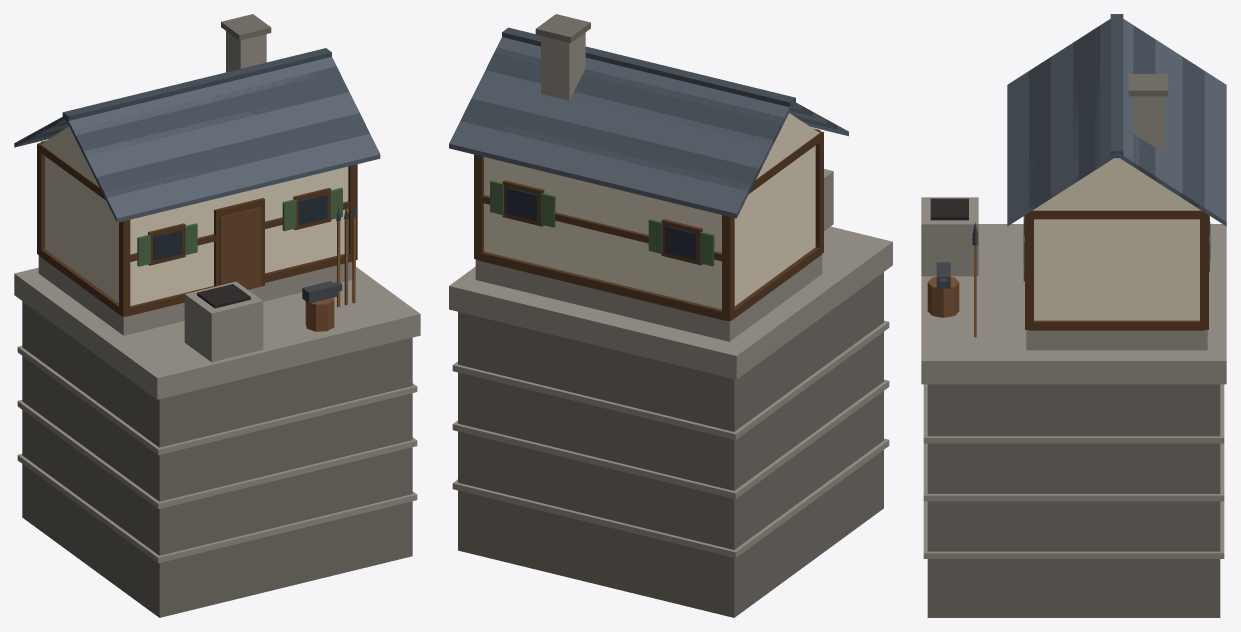
Rendered from armory.glb.
The picture shows the model from 3 angles, left to right: view 1: azimuth 30°, elevation 25°; view 2: azimuth 150°, elevation 25°; view 3: azimuth 270°, elevation 25°; orthographic projection. The views are drawn at different scales.
Visible parts, largest first — view 1: armory; view 2: armory; view 3: armory.
Part boxes in pixels (left/top/right/bottom): armory: left=14, top=14, right=420, bottom=617; armory: left=449, top=14, right=892, bottom=617; armory: left=921, top=14, right=1226, bottom=617.
Size of the model in its own units: 5.1 by 8.72 by 4.8.
